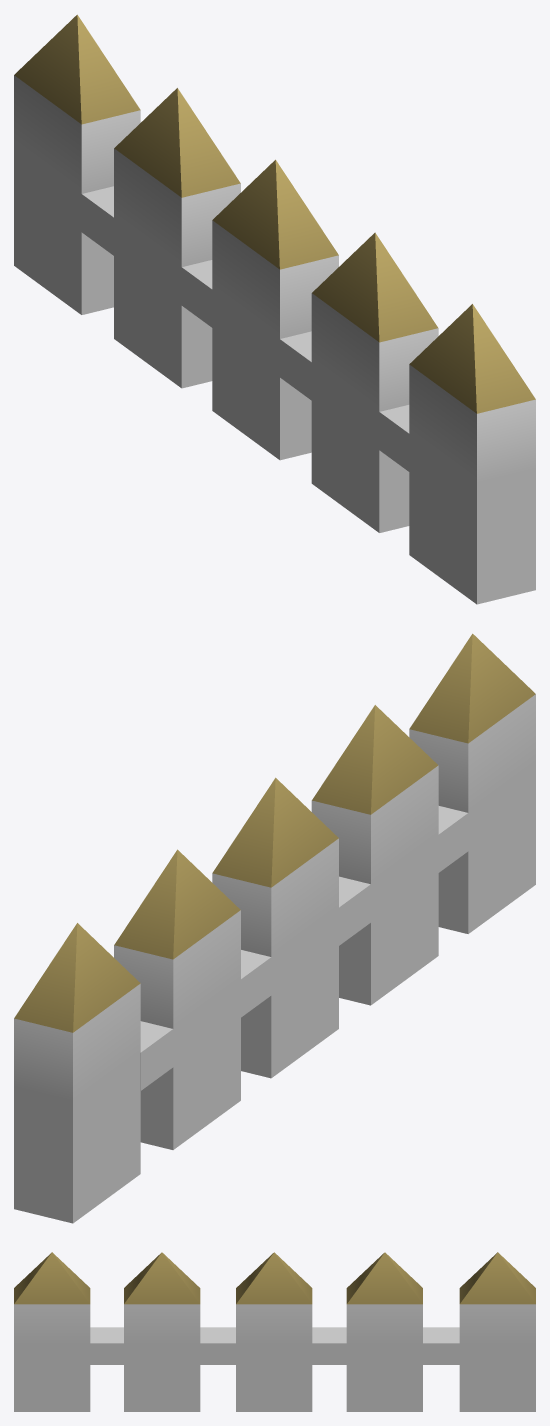
The model's file is Fence.fbx.
3 renders of one model, top to bottom at view 1: azimuth 30°, elevation 25°; view 2: azimuth 150°, elevation 25°; view 3: azimuth 270°, elevation 25°, orthographic. The views are drawn at different scales.
Parts seen in each view (by area): view 1: fence1; view 2: fence1; view 3: fence1.
Part boxes in pixels (x1=…): fence1: x1=14, y1=14, x2=535, y2=604; fence1: x1=14, y1=633, x2=535, y2=1223; fence1: x1=14, y1=1252, x2=535, y2=1411.
Bounding box in the file's own units: 50.4 × 219 × 684.
